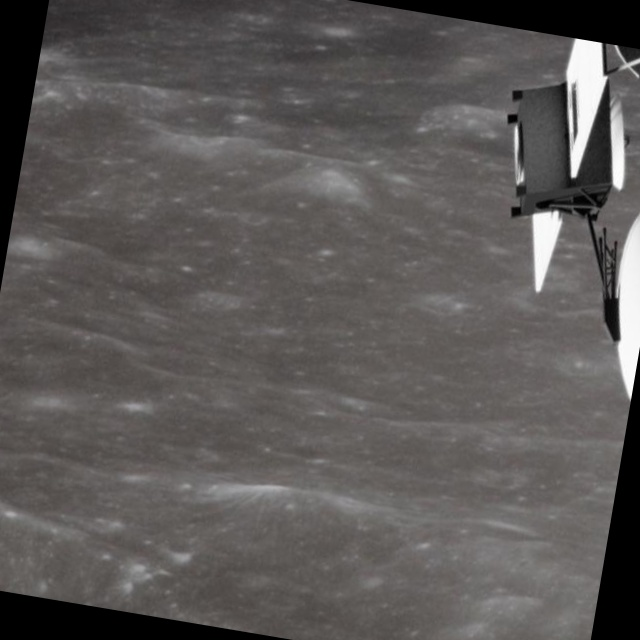satellite: (417, 27, 640, 414)
